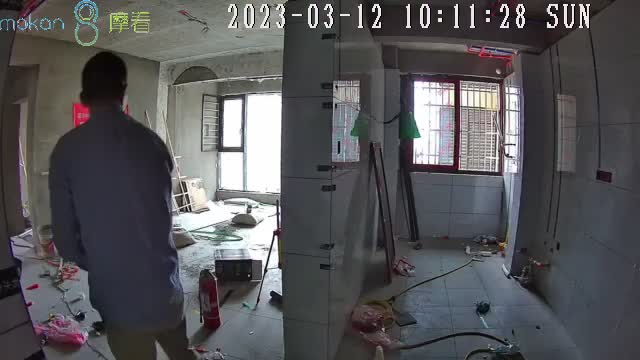people: (49, 50, 199, 360)
window: (407, 74, 502, 174), (217, 96, 284, 192)
